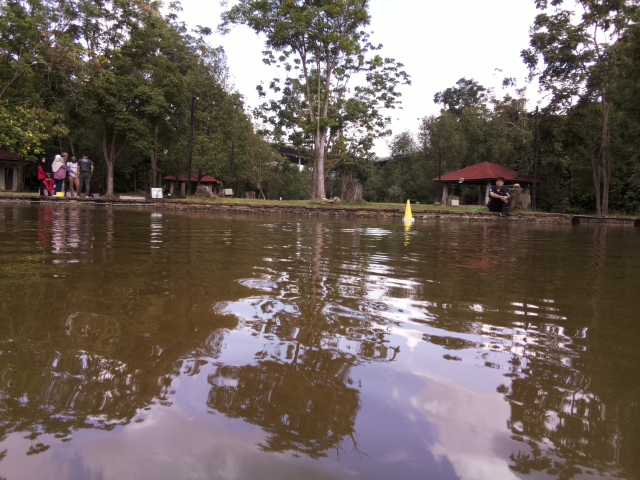checkpoint: (400, 199, 417, 222)
